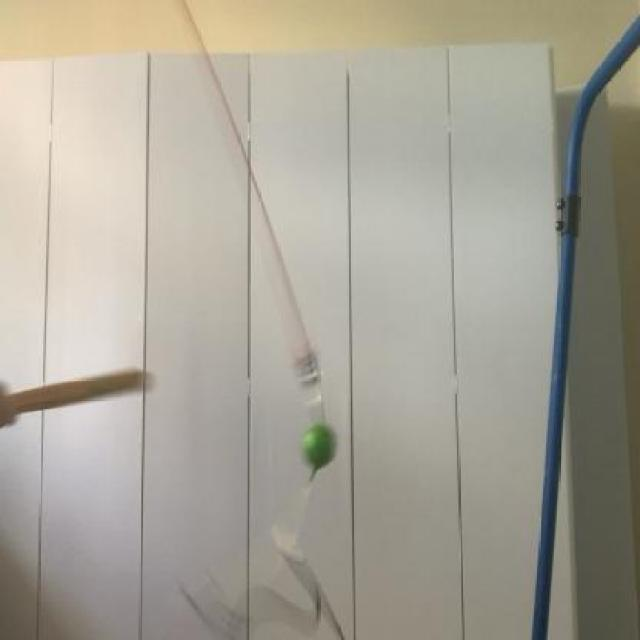baseball: (296, 412, 344, 470)
